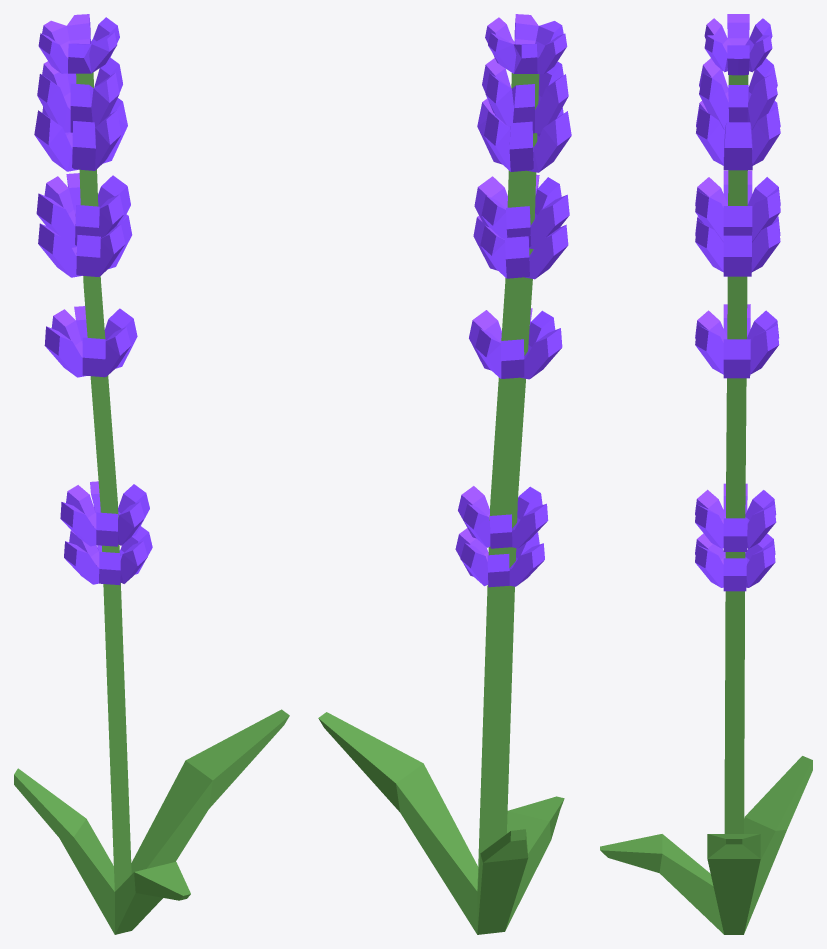
File: Single_Lavender.glb
The picture shows the model from 3 angles, left to right: view 1: azimuth 30°, elevation 25°; view 2: azimuth 150°, elevation 25°; view 3: azimuth 270°, elevation 25°; orthographic projection. The views are drawn at different scales.
Visible parts, largest first — view 1: Base_Lavender; view 2: Base_Lavender; view 3: Base_Lavender.
Boxes of the visible parts, x1,y1,x2,y2 form: Base_Lavender: (14,14,289,934); Base_Lavender: (318,14,571,934); Base_Lavender: (600,14,812,934).
Bounding box in the file's own units: 0.3902 × 1.4 × 0.3049.
Materials: 1 (1 with a texture image).
